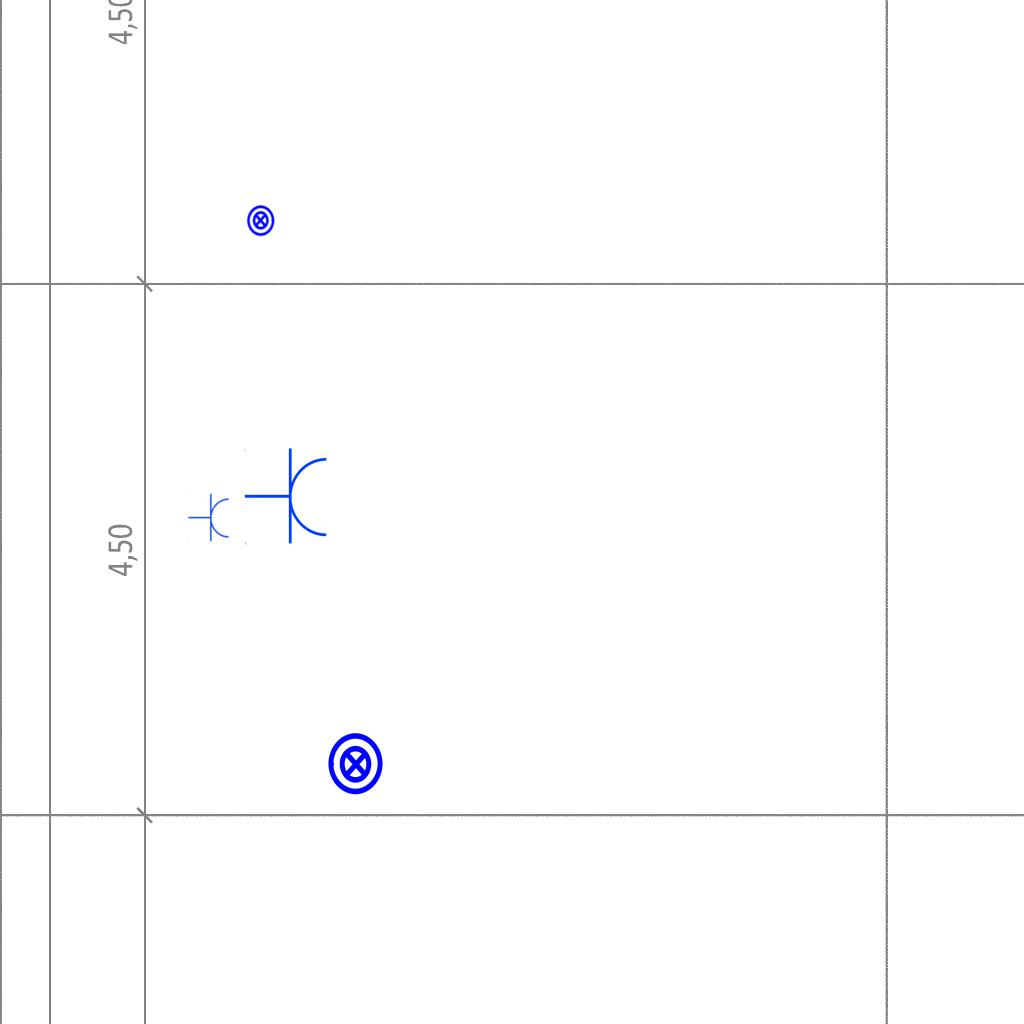Schukosteckdose_einfach: (244, 447, 331, 547), (188, 493, 231, 543)
Taster_beleuchtet: (323, 731, 389, 797), (244, 204, 277, 237)
